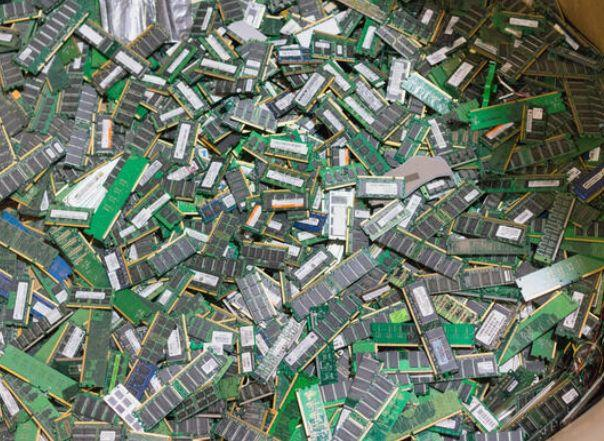electronic: (497, 292, 576, 368), (87, 156, 151, 242), (494, 371, 572, 434), (514, 254, 602, 303), (469, 91, 568, 133), (48, 224, 111, 289), (9, 293, 75, 351), (0, 212, 62, 273), (252, 317, 305, 385), (354, 385, 416, 441), (79, 308, 116, 391), (419, 121, 475, 172), (338, 90, 394, 141), (234, 269, 280, 324), (359, 196, 413, 241), (139, 382, 189, 430), (379, 7, 432, 51), (295, 382, 334, 441), (473, 301, 519, 351), (400, 71, 452, 114), (310, 298, 357, 344), (111, 287, 163, 328), (434, 184, 482, 226), (475, 135, 524, 176), (74, 19, 120, 60), (525, 54, 591, 82), (236, 40, 276, 86), (290, 247, 333, 288), (446, 236, 526, 258), (348, 262, 394, 300), (292, 69, 331, 113), (442, 5, 486, 44), (505, 191, 555, 225), (121, 359, 159, 403), (161, 159, 199, 203), (228, 99, 277, 133), (376, 348, 435, 376), (185, 254, 240, 284), (162, 43, 202, 84), (462, 393, 501, 435), (128, 23, 170, 62), (570, 155, 604, 202), (323, 1, 392, 24), (10, 130, 49, 170), (396, 118, 433, 160), (409, 273, 462, 302), (2, 275, 32, 326), (122, 116, 162, 154), (460, 265, 518, 291), (475, 26, 518, 61), (430, 293, 478, 324), (29, 89, 60, 137), (239, 240, 290, 269), (198, 188, 239, 224), (326, 188, 354, 240), (168, 118, 200, 163), (0, 97, 29, 146), (197, 33, 235, 70), (318, 163, 364, 193), (170, 79, 208, 115), (111, 320, 144, 361), (20, 178, 52, 220), (214, 415, 264, 441), (565, 133, 604, 165), (259, 188, 307, 214), (61, 131, 91, 172), (355, 175, 404, 200), (368, 320, 419, 344), (332, 409, 369, 441), (492, 10, 539, 35), (351, 60, 387, 92), (44, 205, 96, 227), (385, 58, 411, 102), (558, 239, 604, 263), (0, 374, 23, 422), (199, 116, 234, 147), (316, 340, 340, 385), (0, 53, 26, 94), (355, 20, 383, 58), (3, 19, 36, 51), (57, 78, 84, 114), (238, 325, 258, 373), (189, 4, 218, 36), (55, 36, 82, 70), (427, 413, 464, 437), (442, 322, 476, 348), (69, 421, 113, 441), (268, 137, 310, 157), (216, 0, 248, 26), (275, 43, 310, 66), (105, 75, 132, 104), (553, 22, 580, 51), (1, 1, 34, 24), (217, 374, 244, 402), (292, 212, 328, 233), (480, 62, 496, 106), (294, 0, 325, 22), (259, 14, 287, 37), (101, 118, 114, 150)
